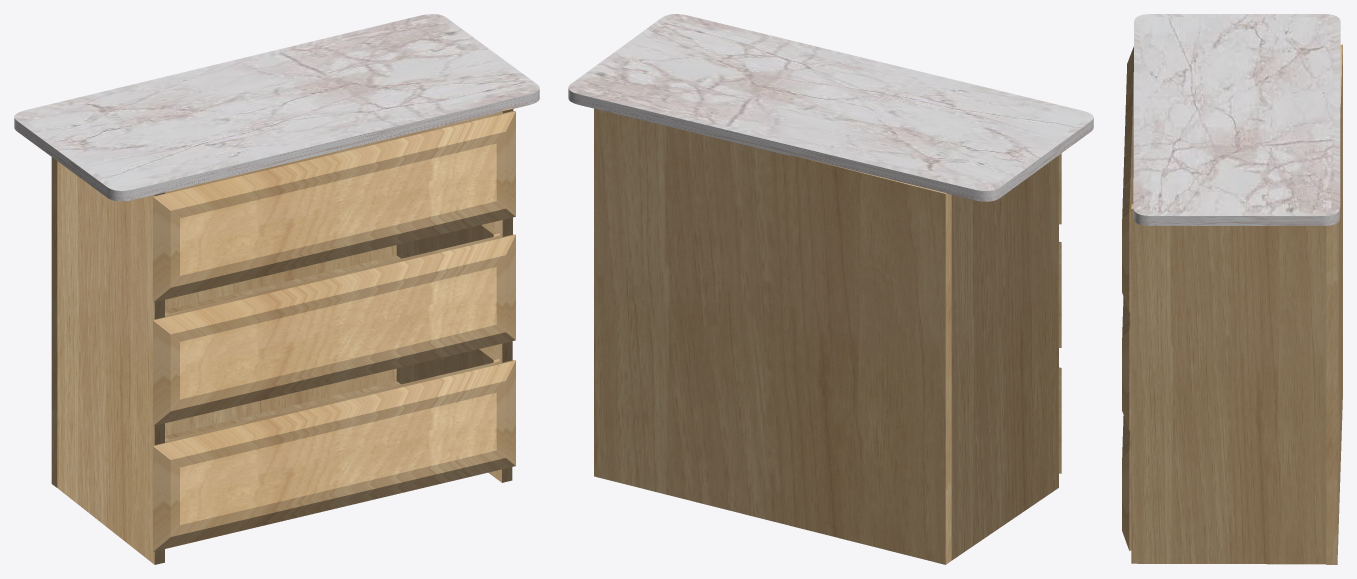
File: cabinet4.FBX
3 renders of one model, left to right at view 1: azimuth 30°, elevation 25°; view 2: azimuth 150°, elevation 25°; view 3: azimuth 270°, elevation 25°, orthographic. The views are drawn at different scales.
Parts seen in each view (by area): view 1: Box001, Box004; view 2: Box001, Box004; view 3: Box001, Box004.
Boxes of the visible parts, box(x1,y1,x2,y2) form: Box001: box(51, 108, 515, 564); Box004: box(14, 14, 539, 201); Box001: box(594, 108, 1061, 564); Box004: box(568, 14, 1093, 201); Box001: box(1122, 44, 1342, 564); Box004: box(1133, 14, 1340, 225).
Bounding box in the file's own units: 1035 × 879 × 481.
2 materials, 2 textured.
